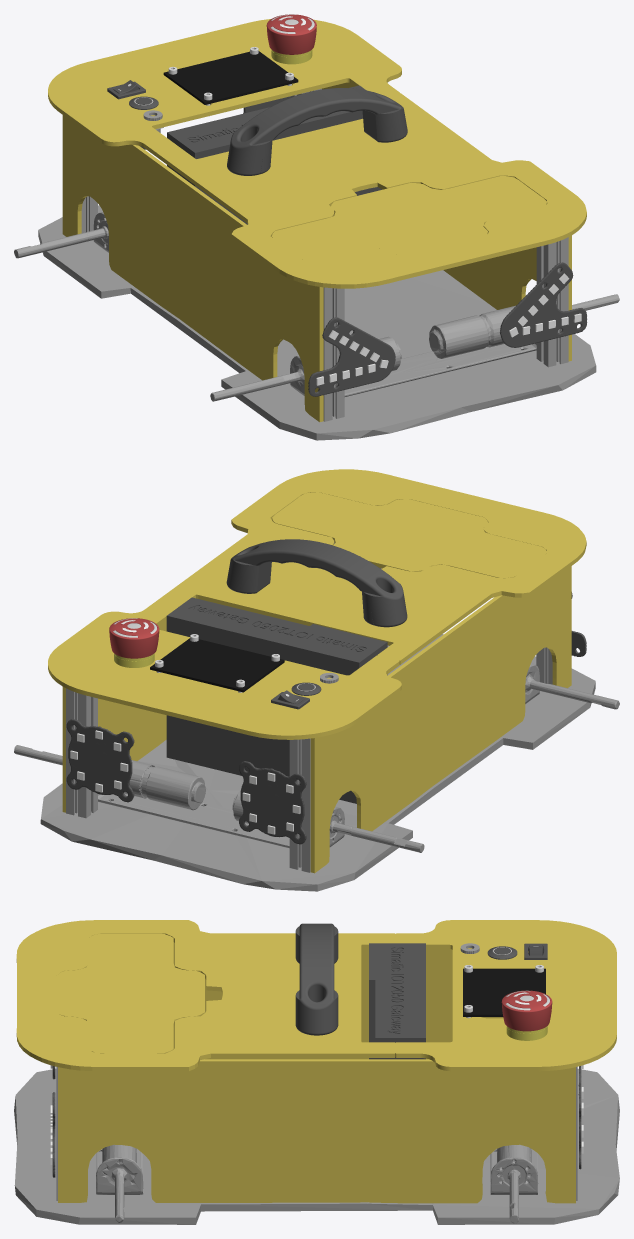
The model's file is eduard-yellow-chassis.dae.
3 renders of one model, top to bottom at view 1: azimuth 30°, elevation 25°; view 2: azimuth 150°, elevation 25°; view 3: azimuth 270°, elevation 25°, orthographic.
Parts seen in each view (by area): view 1: Körper1.064, Körper1.004, Körper1.025, Körper1.063, Körper1.056, Körper1.005, Körper1.062, Körper1, Körper1.002, Körper1.053, Körper1.050, Körper1.084 (+4 smaller); view 2: Körper1.004, Körper1.064, Körper1.025, Körper1.063, Körper1.053, Körper1.056, Körper1.027, Körper1.062, Körper1, Körper1.087, Körper1.054, Körper1.002 (+4 smaller); view 3: Körper1.002, Körper1.064, Körper1.025, Körper1.063, Körper1.056, Körper1.053, Körper1.062, Körper1.004, Körper1, Körper1.027, Körper1.005, Körper10.
Part boxes in pixels (x1,y1,x2,y2): Körper1.064: (156, 93, 586, 288); Körper1.004: (62, 115, 323, 422); Körper1.025: (38, 205, 596, 440); Körper1.063: (48, 19, 401, 156); Körper1.056: (271, 176, 546, 261); Körper1.005: (210, 294, 619, 401); Körper1.062: (227, 88, 407, 175); Körper1: (163, 51, 298, 104); Körper1.002: (322, 82, 571, 361); Körper1.053: (167, 85, 381, 224); Körper1.050: (500, 262, 587, 347); Körper1.084: (308, 317, 395, 396); Körper1.004: (310, 566, 571, 873); Körper1.064: (156, 469, 586, 664); Körper1.025: (40, 634, 595, 891); Körper1.063: (48, 601, 401, 739); Körper1.053: (166, 597, 387, 803); Körper1.056: (272, 492, 546, 578); Körper1.027: (14, 745, 424, 852); Körper1.062: (226, 539, 407, 627); Körper1: (150, 638, 284, 692); Körper1.087: (66, 719, 134, 802); Körper1.054: (239, 761, 306, 844); Körper1.002: (62, 620, 166, 812); Körper1.002: (58, 1059, 575, 1203); Körper1.064: (16, 920, 394, 1071); Körper1.025: (14, 1068, 619, 1224); Körper1.063: (395, 920, 616, 1071); Körper1.056: (56, 933, 204, 1053); Körper1.053: (369, 943, 425, 1059); Körper1.062: (295, 923, 338, 1035); Körper1.004: (173, 942, 503, 1059); Körper1: (463, 968, 545, 1016); Körper1.027: (490, 1144, 538, 1223); Körper1.005: (96, 1144, 143, 1222); Körper10: (501, 990, 552, 1031).
Bounding box in the file's own units: 0.2996 × 0.3837 × 0.1461.
